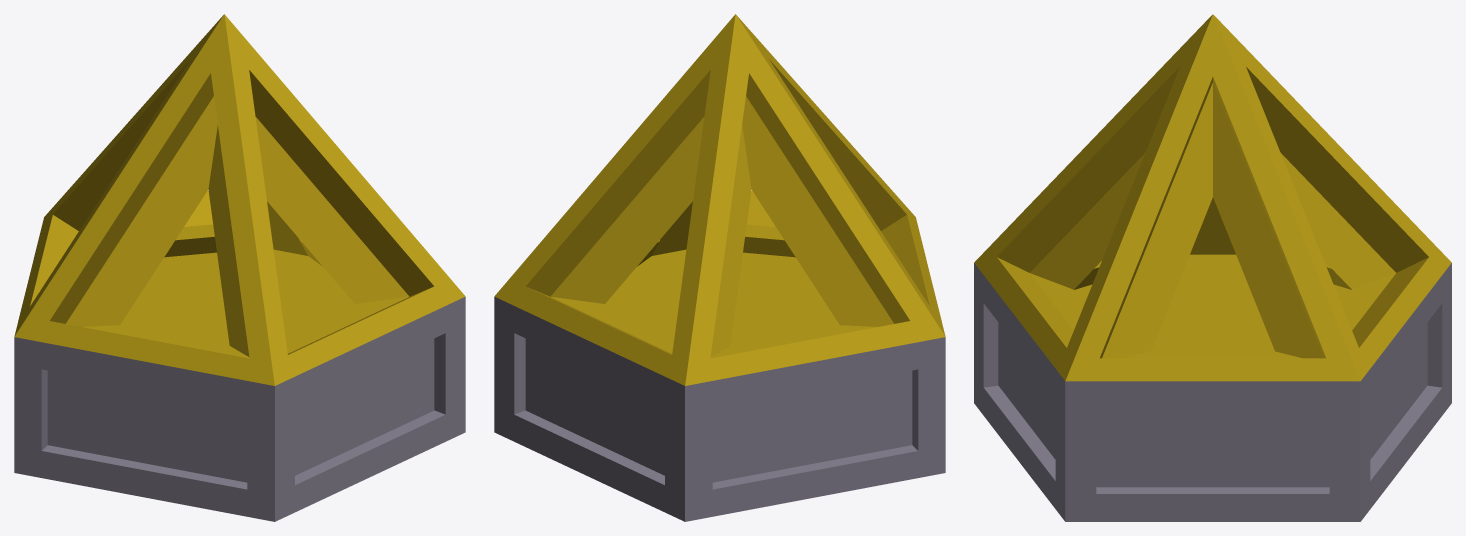
Rendered from portal.fbx.
The picture shows the model from 3 angles, left to right: view 1: azimuth 30°, elevation 25°; view 2: azimuth 150°, elevation 25°; view 3: azimuth 270°, elevation 25°; orthographic projection. The views are drawn at different scales.
Visible parts, largest first — view 1: portal centro, portal base; view 2: portal centro, portal base; view 3: portal centro, portal base.
Part boxes in pixels (<box>): portal centro: <box>14,14,465,385</box>; portal base: <box>14,296,465,521</box>; portal centro: <box>494,14,945,385</box>; portal base: <box>494,296,945,521</box>; portal centro: <box>974,14,1451,381</box>; portal base: <box>974,263,1451,521</box>.
Size of the model in its own units: 293 by 300 by 308.
